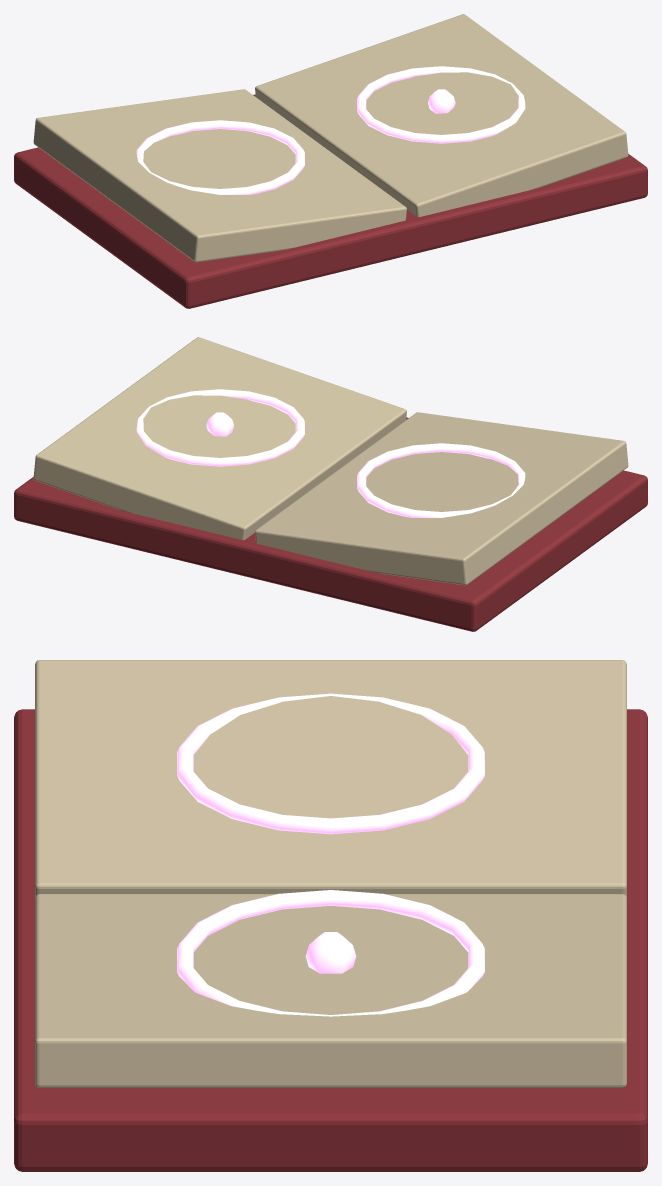
The model's file is grimoire_open_runes.glb.
3 views of the same model, one above another, from view 1: azimuth 30°, elevation 25°; view 2: azimuth 150°, elevation 25°; view 3: azimuth 270°, elevation 25° (orthographic). The views are drawn at different scales.
Parts seen in each view (by area): view 1: GD_grimoire_open_runes__m1, GD_grimoire_open_runes__m0, GD_grimoire_open_runes__m2; view 2: GD_grimoire_open_runes__m1, GD_grimoire_open_runes__m0, GD_grimoire_open_runes__m2; view 3: GD_grimoire_open_runes__m1, GD_grimoire_open_runes__m0, GD_grimoire_open_runes__m2.
Part boxes in pixels (x1,y1,x2,y2): GD_grimoire_open_runes__m1: [33, 14, 628, 262]; GD_grimoire_open_runes__m0: [14, 94, 647, 308]; GD_grimoire_open_runes__m2: [136, 66, 525, 194]; GD_grimoire_open_runes__m1: [33, 337, 628, 585]; GD_grimoire_open_runes__m0: [14, 417, 647, 631]; GD_grimoire_open_runes__m2: [136, 389, 525, 517]; GD_grimoire_open_runes__m1: [35, 660, 626, 1087]; GD_grimoire_open_runes__m0: [14, 709, 647, 1171]; GD_grimoire_open_runes__m2: [177, 693, 484, 1016].
Bounding box in the file's own units: 0.46 × 0.07 × 0.3.
